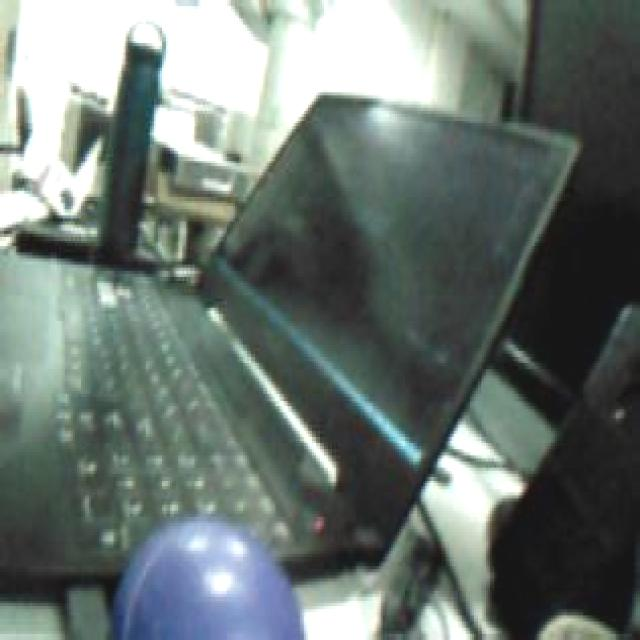BallPurple: (120, 518, 303, 640)
